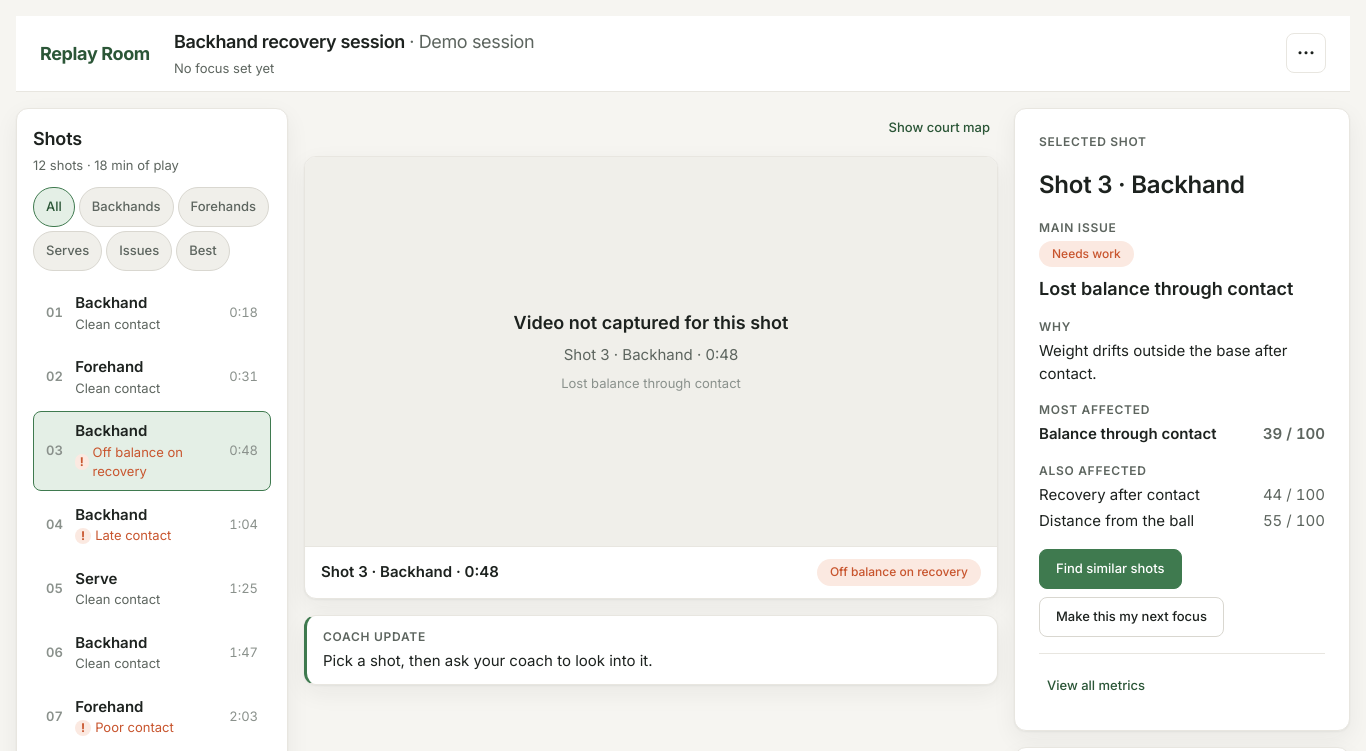
App similar shots and comparison › Make this my next focus saves the primary metric to the plan
Click the button "Make this my next focus" at (1131, 617), box 1039,597 -> 1224,637
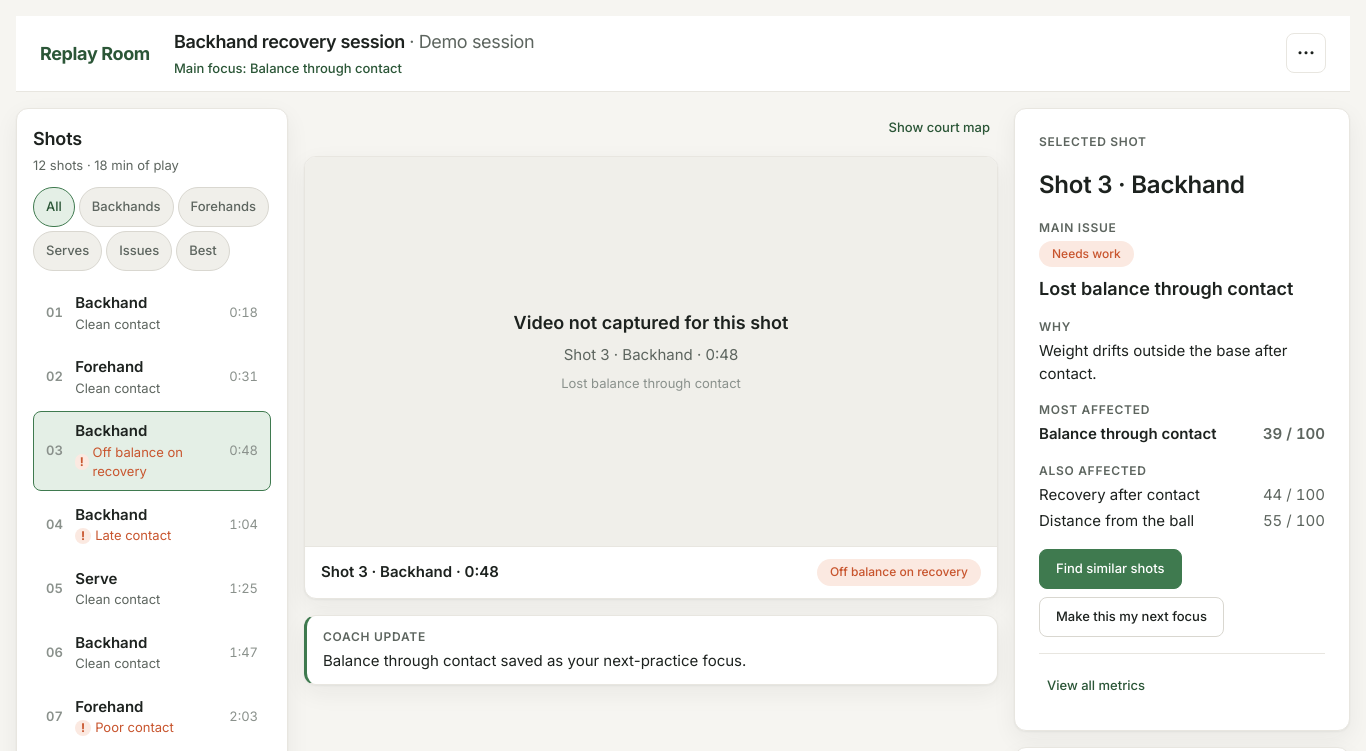
Result: the text with test id "focus" shows "Main focus:" at 174,60 -> 402,76
Result: the element with class "coach-update" shows "saved as your next-practice focus" at 323,650 -> 746,670
